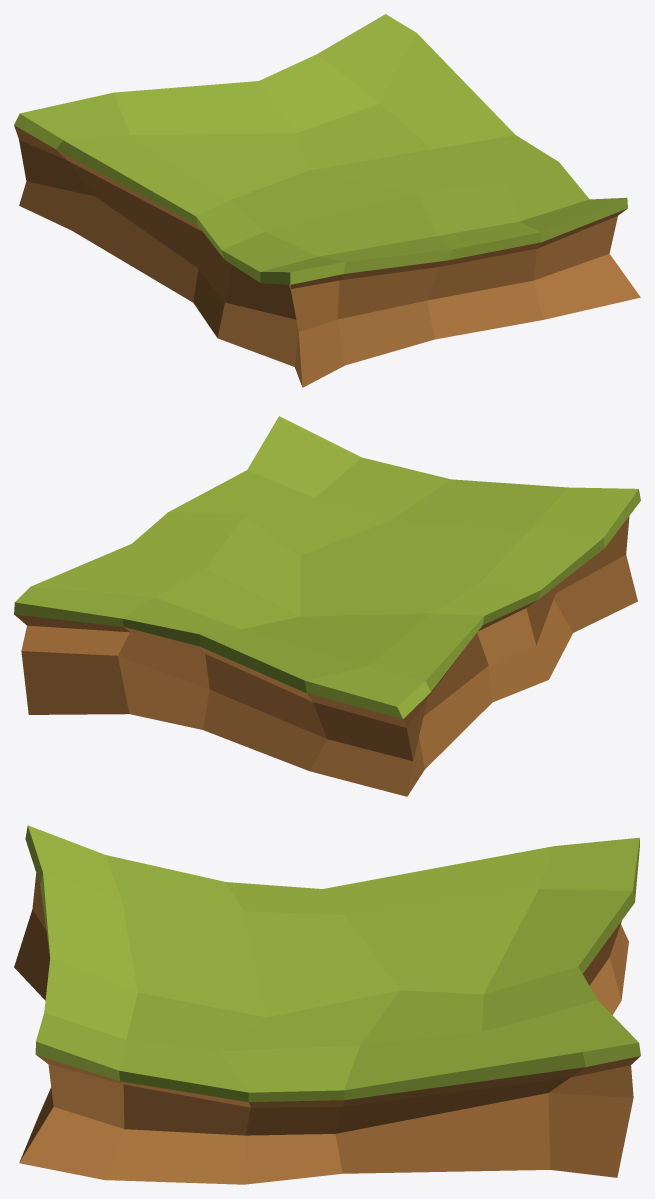
The model's file is drn_textured9.fbx.
3 views of the same model, one above another, from view 1: azimuth 30°, elevation 25°; view 2: azimuth 150°, elevation 25°; view 3: azimuth 270°, elevation 25° (orthographic). The views are drawn at different scales.
Visible parts, largest first — view 1: JaynamLowPolyTerrain_drny_rozdelane:pCube6; view 2: JaynamLowPolyTerrain_drny_rozdelane:pCube6; view 3: JaynamLowPolyTerrain_drny_rozdelane:pCube6.
Boxes of the visible parts, bbox=[...] form: JaynamLowPolyTerrain_drny_rozdelane:pCube6: bbox=[14, 14, 640, 387]; JaynamLowPolyTerrain_drny_rozdelane:pCube6: bbox=[14, 416, 640, 796]; JaynamLowPolyTerrain_drny_rozdelane:pCube6: bbox=[14, 825, 640, 1184].
Bounding box in the file's own units: 0.7044 × 0.2232 × 0.8141.
